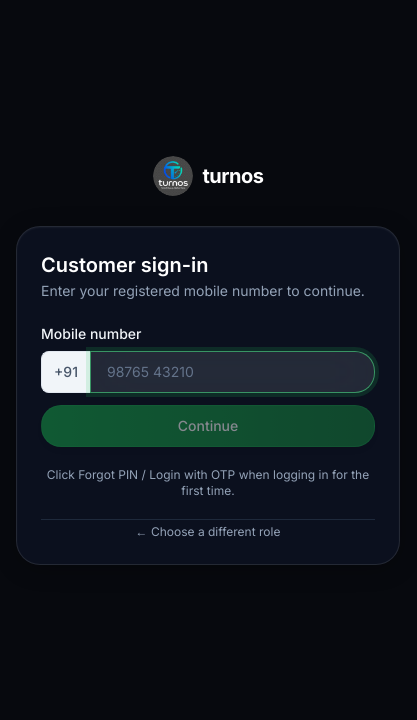
Test case: <PatientLoginPage /> › shows error message if login fails
The image size is (417, 720).
Type "9876543210" into the field labelled "Mobile number".
click(232, 372); type("9876543210")  # box [90, 350, 375, 392]
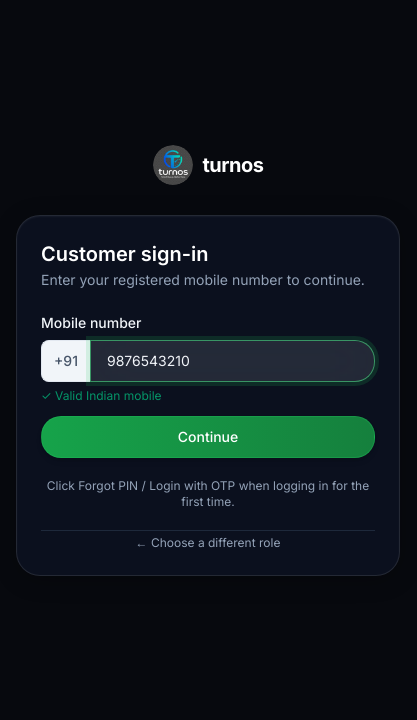
Click the button "Continue".
click(208, 436)  # box [41, 416, 375, 458]
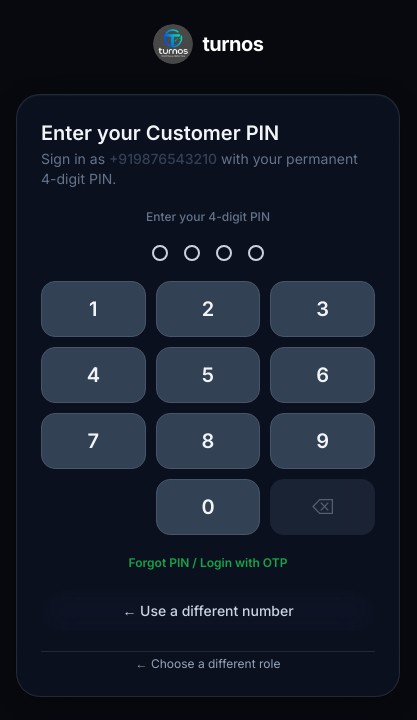
Result: the heading "Enter your Customer PIN" is shown at [41, 120, 279, 144]
Click the button "1".
click(93, 308)  # box [41, 280, 146, 336]
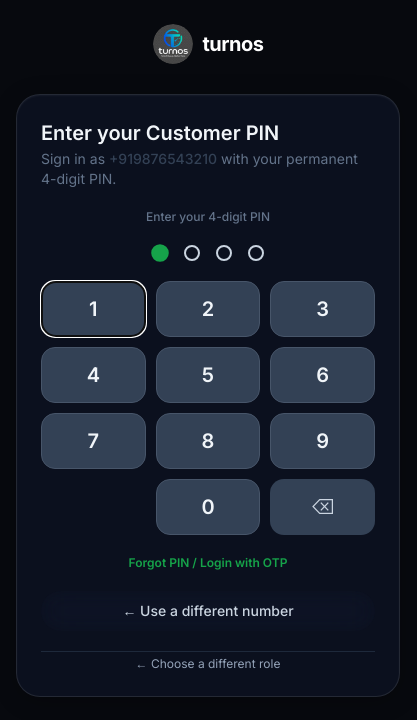
Click the button "2".
click(208, 308)  # box [156, 280, 260, 336]
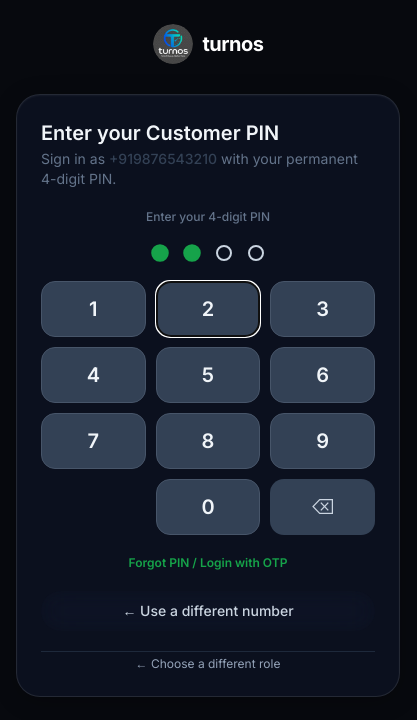
Click the button "3".
click(323, 308)  # box [270, 280, 375, 336]
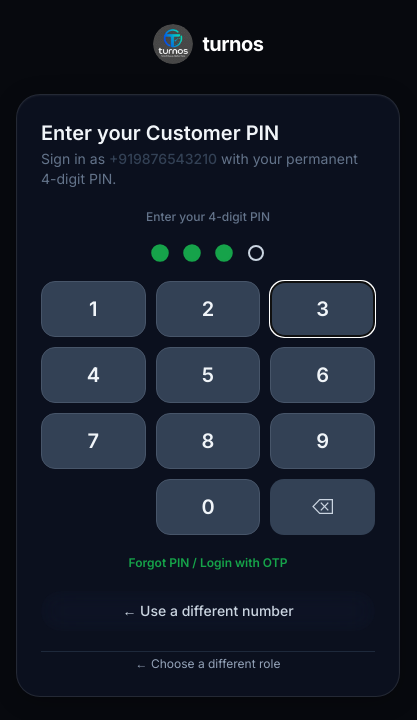
Click the button "4".
click(93, 374)  # box [41, 346, 146, 402]
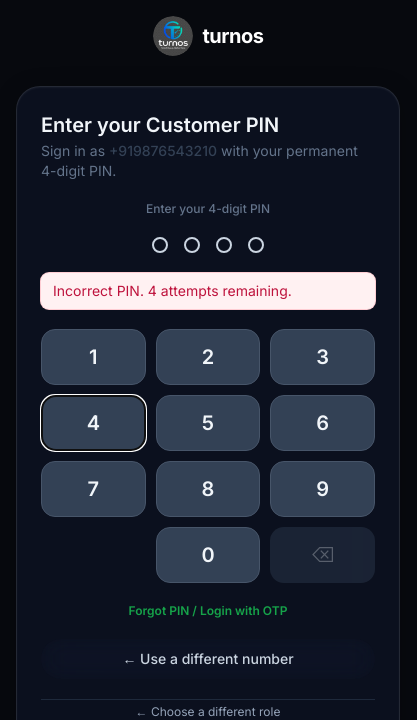
Result: the text "Incorrect PIN. 4 attempts remaining." is shown at [41, 273, 375, 309]
